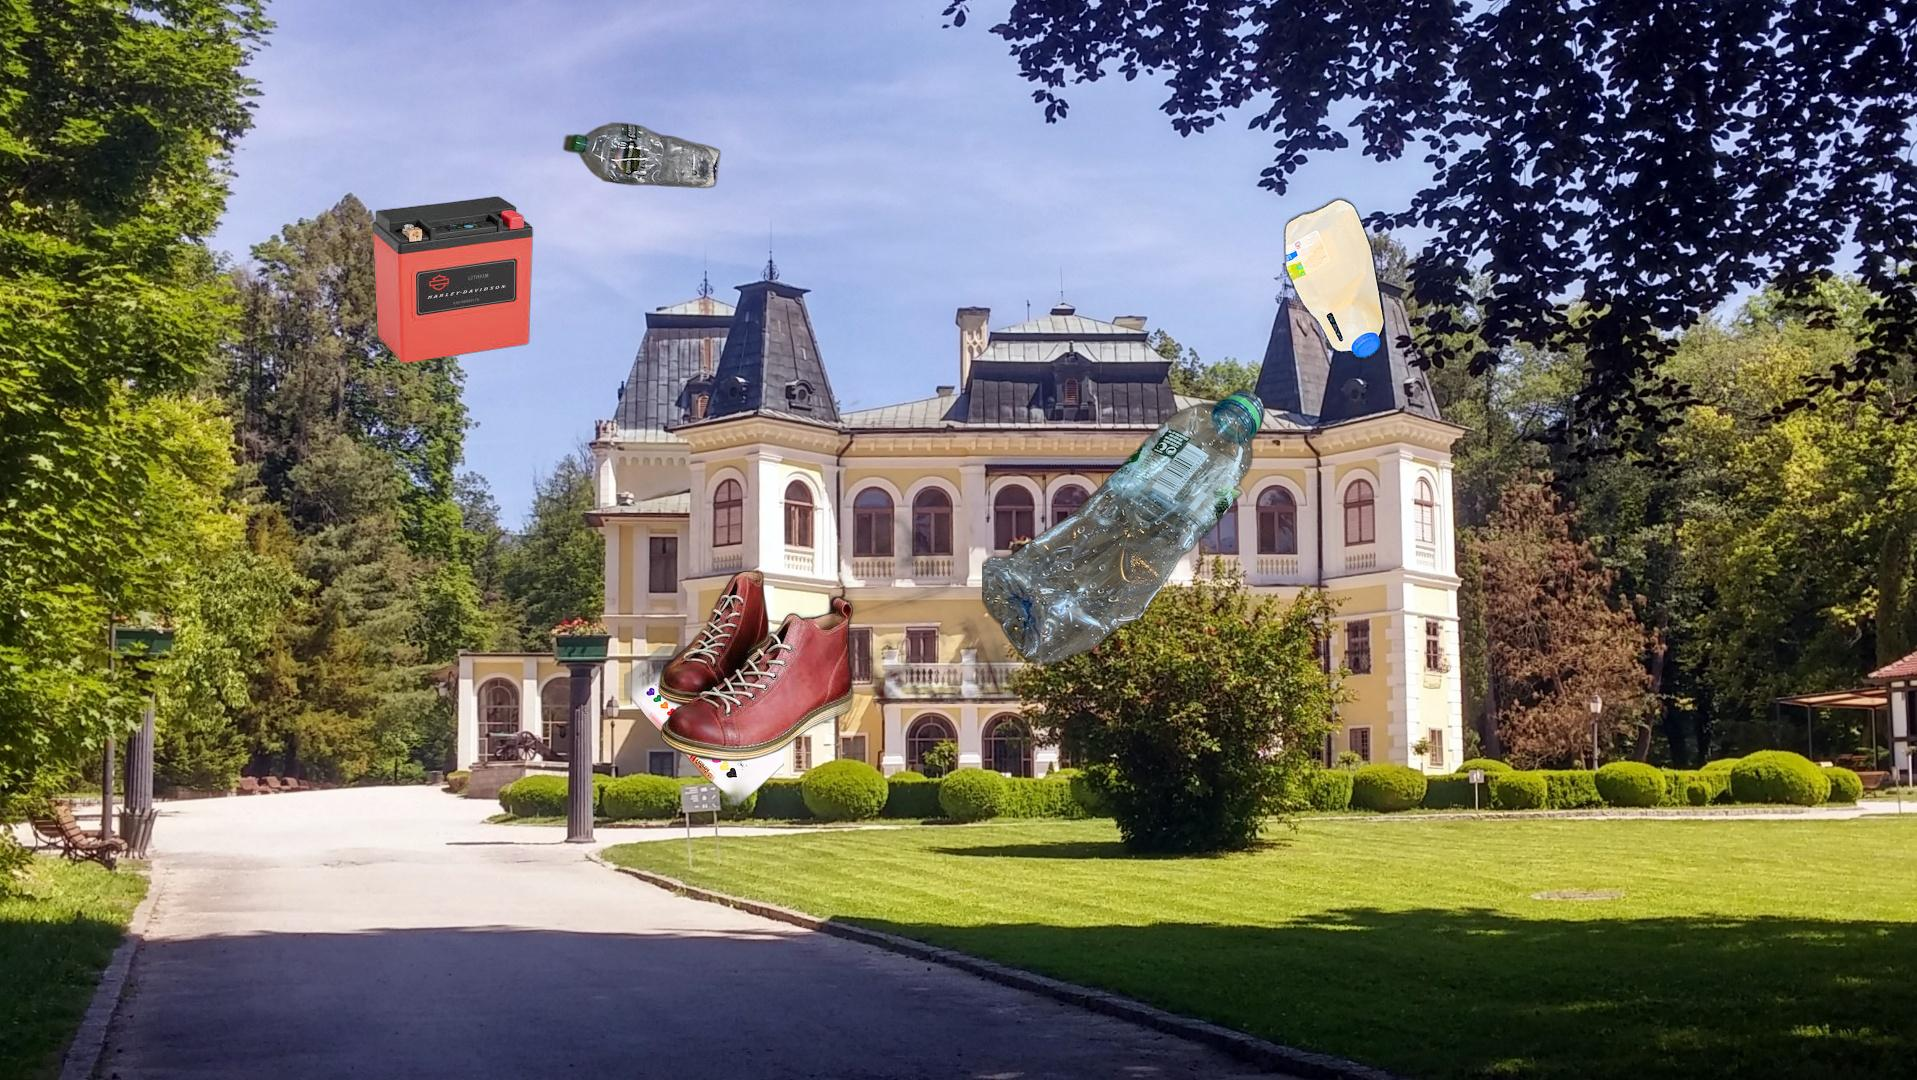battery: (370, 194, 536, 366)
paper: (560, 320, 1070, 705)
penholder: (624, 645, 783, 806)
plastic-bottles: (982, 386, 1268, 670), (1278, 194, 1390, 365), (560, 119, 724, 192)
shoes: (656, 568, 869, 788)
